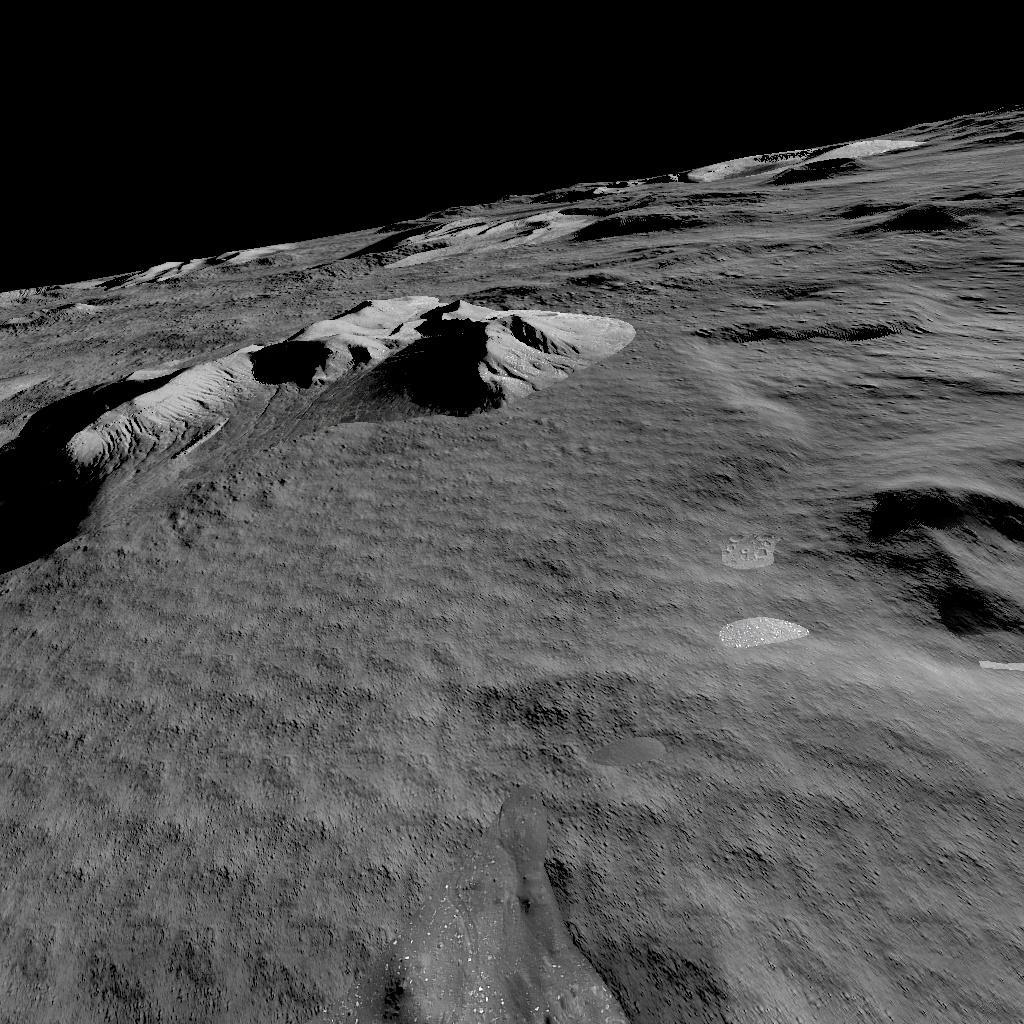Boulders: (7, 280, 641, 536), (369, 114, 1017, 262), (108, 224, 316, 272)
Crater: (0, 912, 1024, 1024), (843, 476, 1024, 648), (678, 290, 936, 357)
Plan surface: (5, 574, 822, 886)
